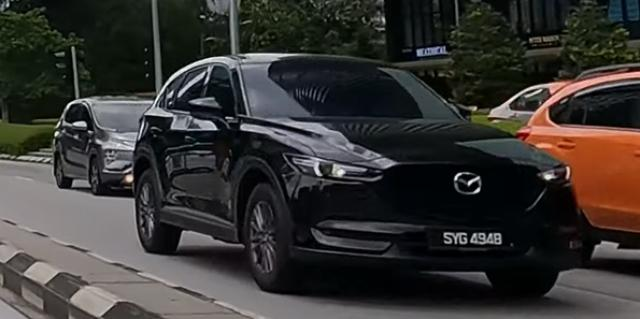License_Plate: (428, 227, 508, 252)
car: (132, 52, 586, 299)
